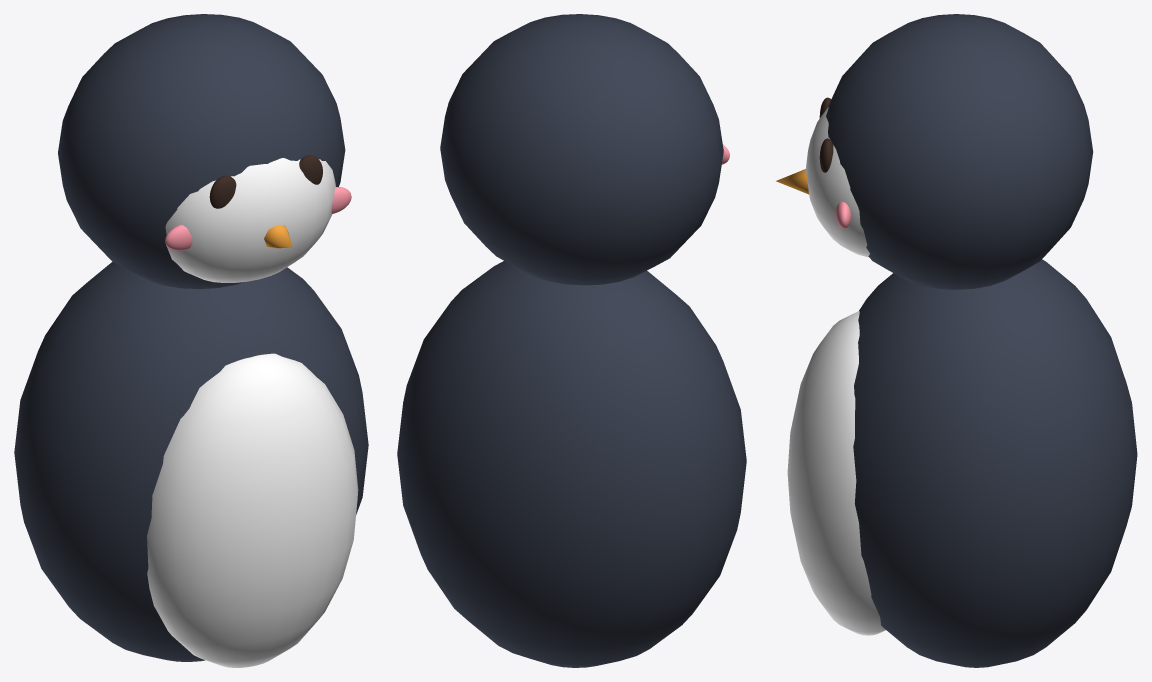
Rendered from Customer_Penguin.fbx.
The picture shows the model from 3 angles, left to right: view 1: azimuth 30°, elevation 25°; view 2: azimuth 150°, elevation 25°; view 3: azimuth 270°, elevation 25°; orthographic projection.
Parts seen in each view (by area): view 1: Customer_Penguin; view 2: Customer_Penguin; view 3: Customer_Penguin.
Part boxes in pixels (left/top/right/bottom): Customer_Penguin: left=14, top=14, right=368, bottom=667; Customer_Penguin: left=397, top=14, right=746, bottom=667; Customer_Penguin: left=776, top=14, right=1137, bottom=667.
Bounding box in the file's own units: 0.9 × 1.72 × 0.9.
